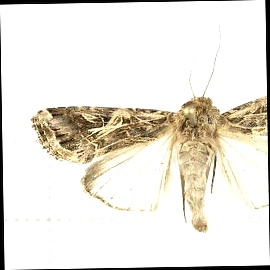Spodoptera litura: (29, 19, 268, 235)
